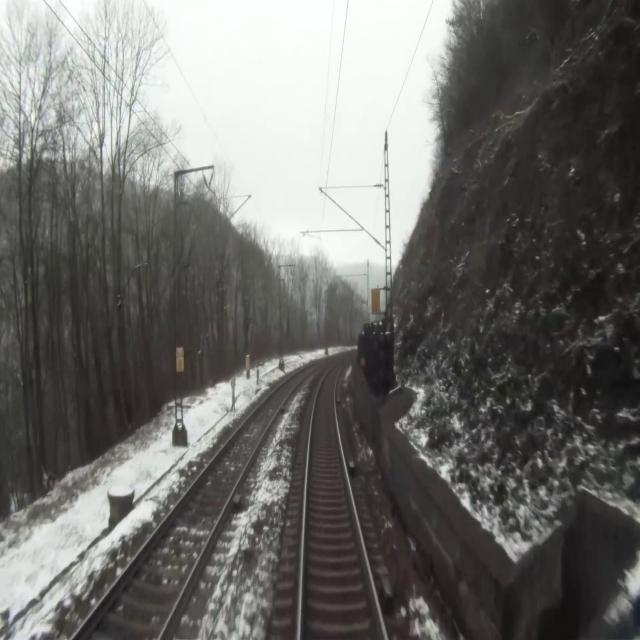rail-track: (75, 369, 308, 639), (302, 366, 382, 639)
